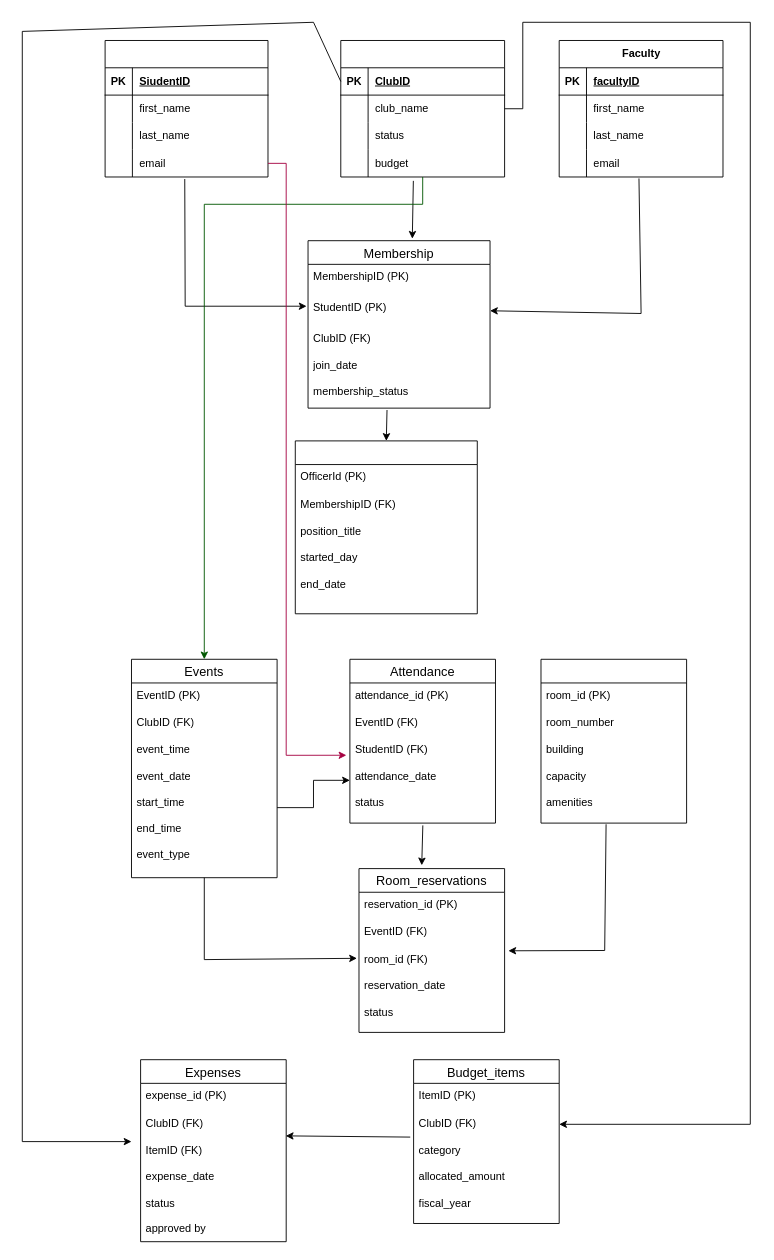
The diagram is 774 pixels wide and 1260 high, and some of its shapes have lost their labels. Here are the shapes that lost their labels. From the top down, the box of each, then its label:
(104, 40, 268, 177): Students
(340, 40, 505, 177): Clubs
(294, 440, 477, 614): Club_Offcers
(540, 658, 687, 823): Rooms
